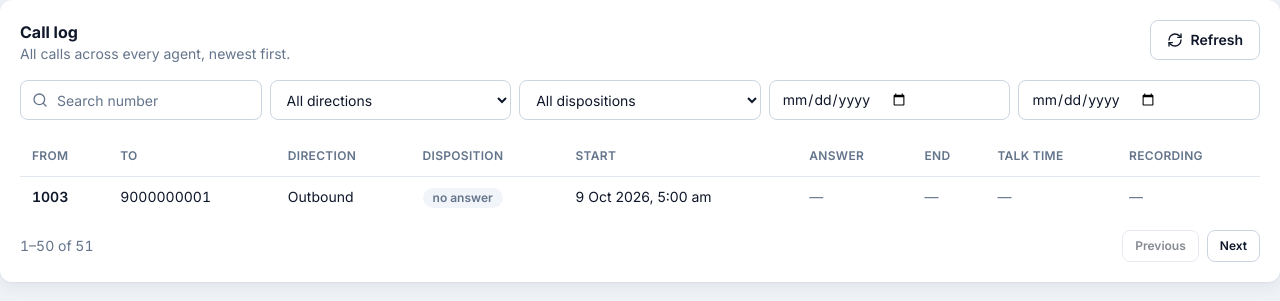
Test: Call Log › asks the server for the next page
expect the text "9000000001" is shown: met, box 108,176 -> 276,218
expect the text "1–50 of 51" is shown: met, box 20,236 -> 94,256
Click the button "Next" at x=1233, y=246, box 1207,230 -> 1260,262
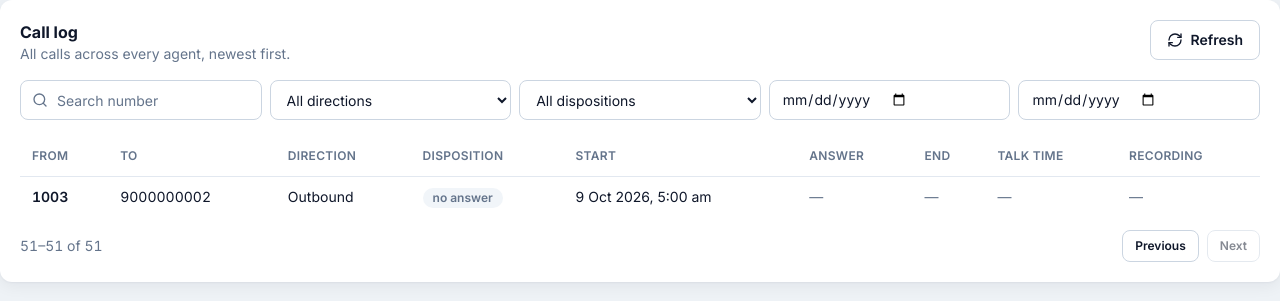
expect the text "9000000002" is shown: met, box 108,176 -> 276,218
expect the text "9000000001" is gone: met
expect the text "51–51 of 51" is shown: met, box 20,236 -> 103,256
